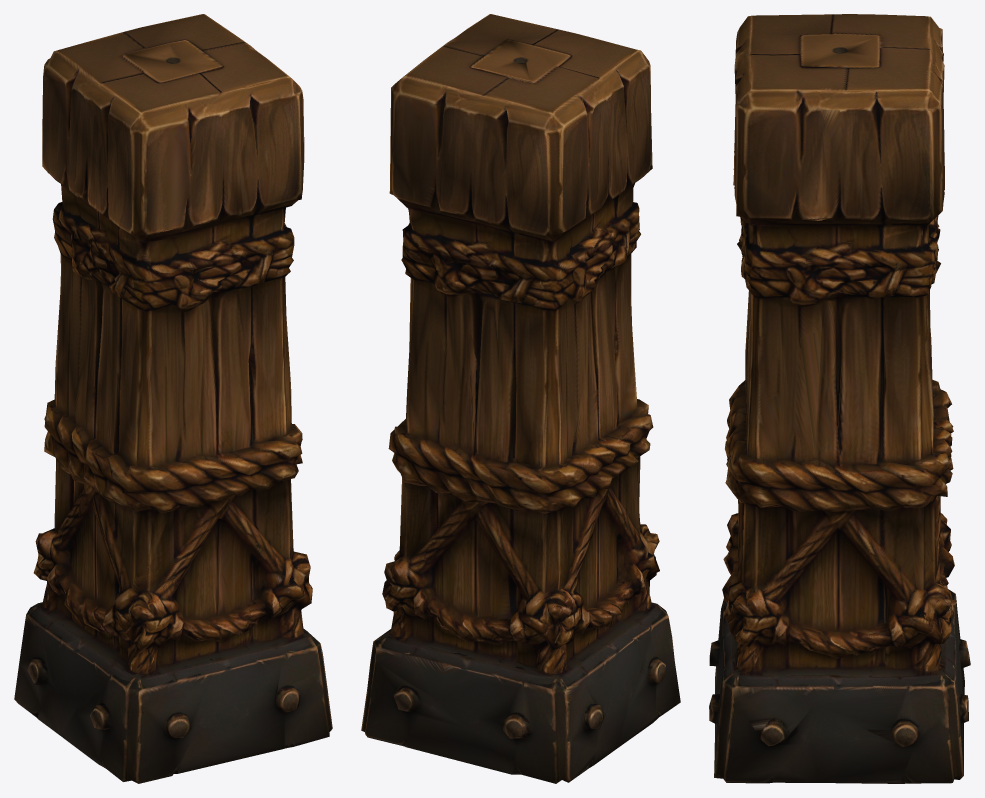
The model's file is poste_de_madera.glb.
3 renders of one model, left to right at view 1: azimuth 30°, elevation 25°; view 2: azimuth 150°, elevation 25°; view 3: azimuth 270°, elevation 25°, orthographic. The views are drawn at different scales.
Visible parts, largest first — view 1: poste_de_madera; view 2: poste_de_madera; view 3: poste_de_madera.
Part boxes in pixels (box(x1,y1,x2,y2)): poste_de_madera: box(14, 14, 332, 783); poste_de_madera: box(361, 14, 680, 783); poste_de_madera: box(709, 14, 970, 783).
Size of what is drawn, in the model's own units: 0.867 by 2.5 by 0.8665.
1 material, 1 textured.
